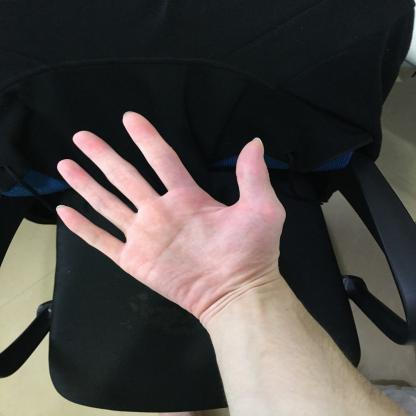bare_hand: (40, 99, 313, 338)
